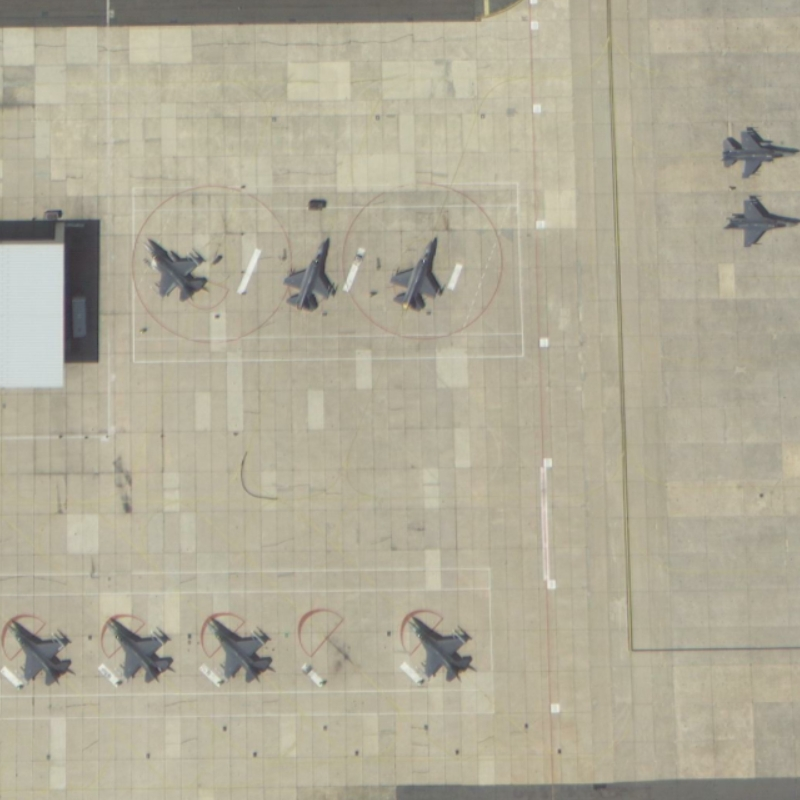A5: (103, 614, 176, 687), (204, 615, 275, 685), (140, 236, 212, 305), (404, 615, 477, 683), (5, 619, 76, 688), (387, 233, 446, 314), (280, 236, 340, 314), (719, 125, 800, 182), (720, 195, 800, 250)
